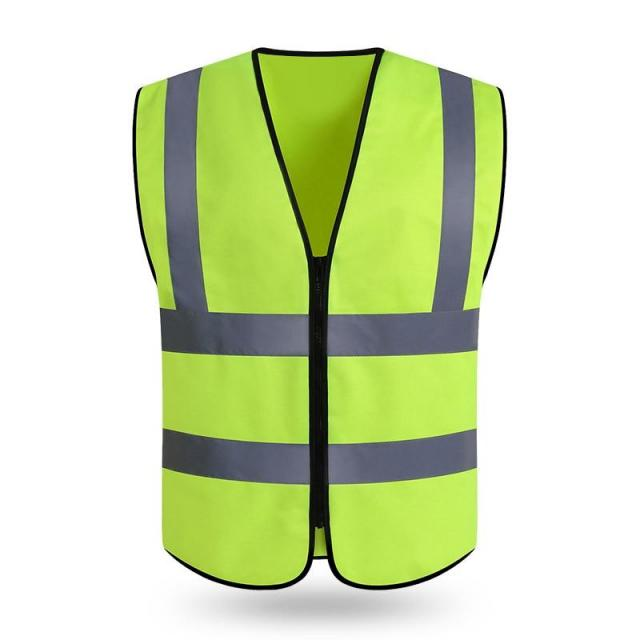Reflective-Jacket: (104, 34, 526, 609)
